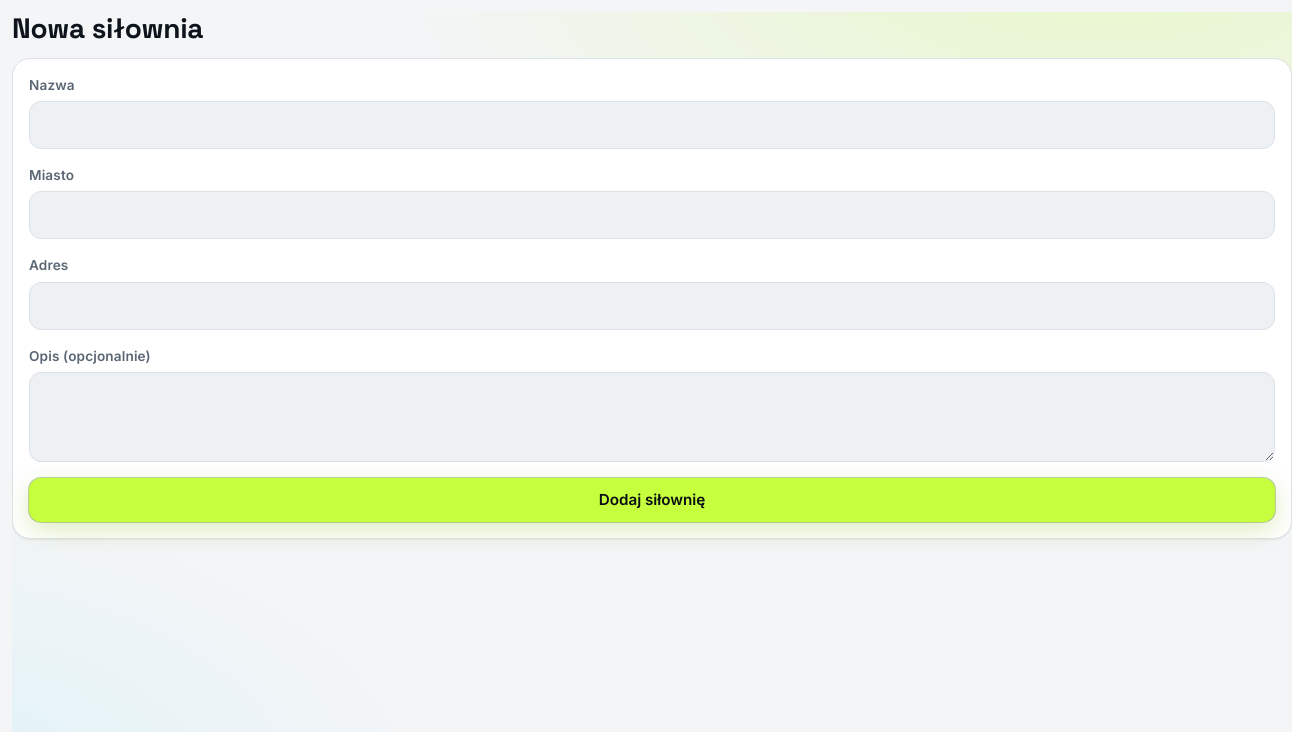
AddGymPage › validates required fields
Click the button "Dodaj siłownię". click: (652, 500)
box: [29,478,1275,522]
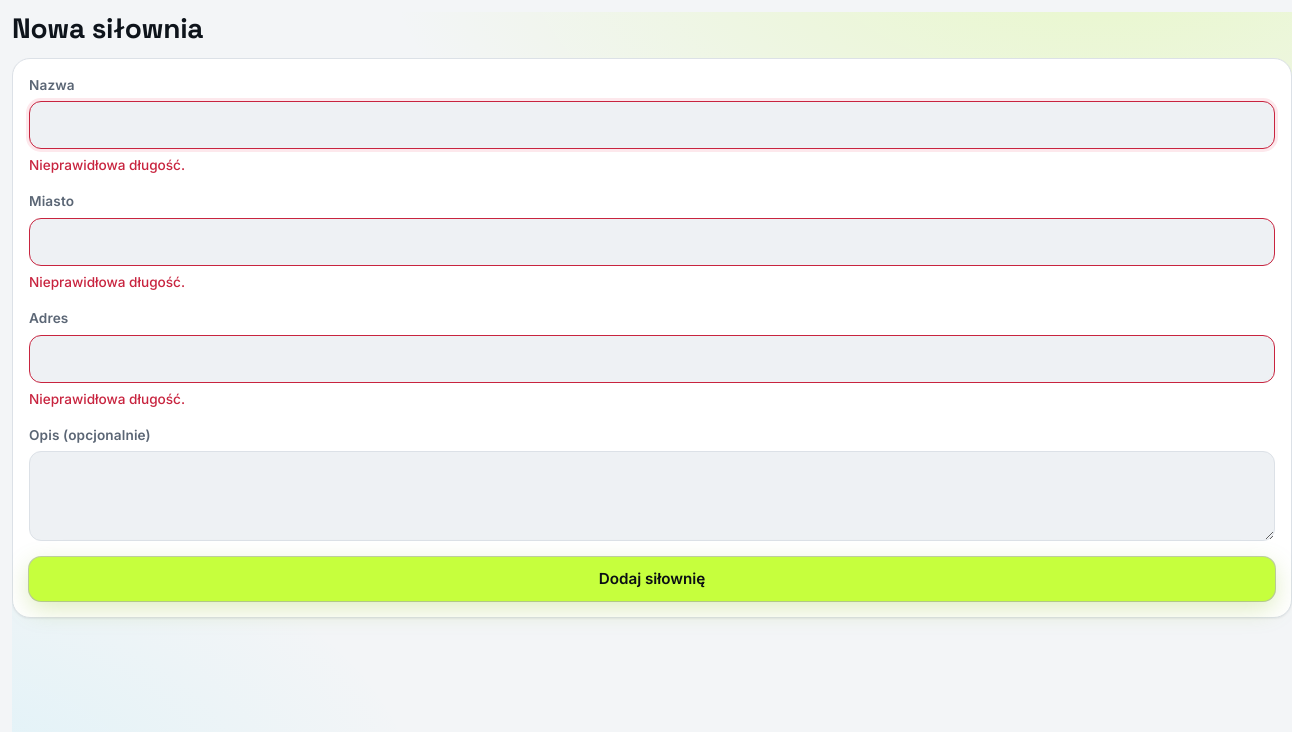
Expected: the text "Nieprawidłowa długość." is shown 3 times, [29,157,185,173]; [29,274,185,290]; [29,390,185,406]
